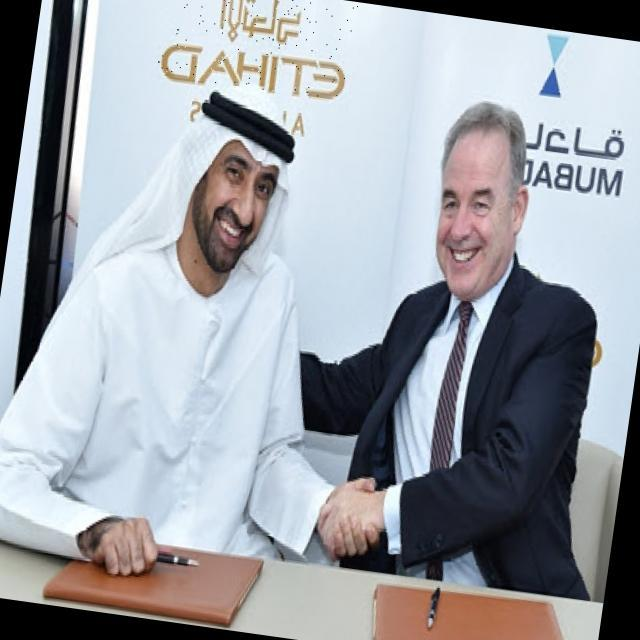Etihad Airways: (156, 0, 358, 102)
